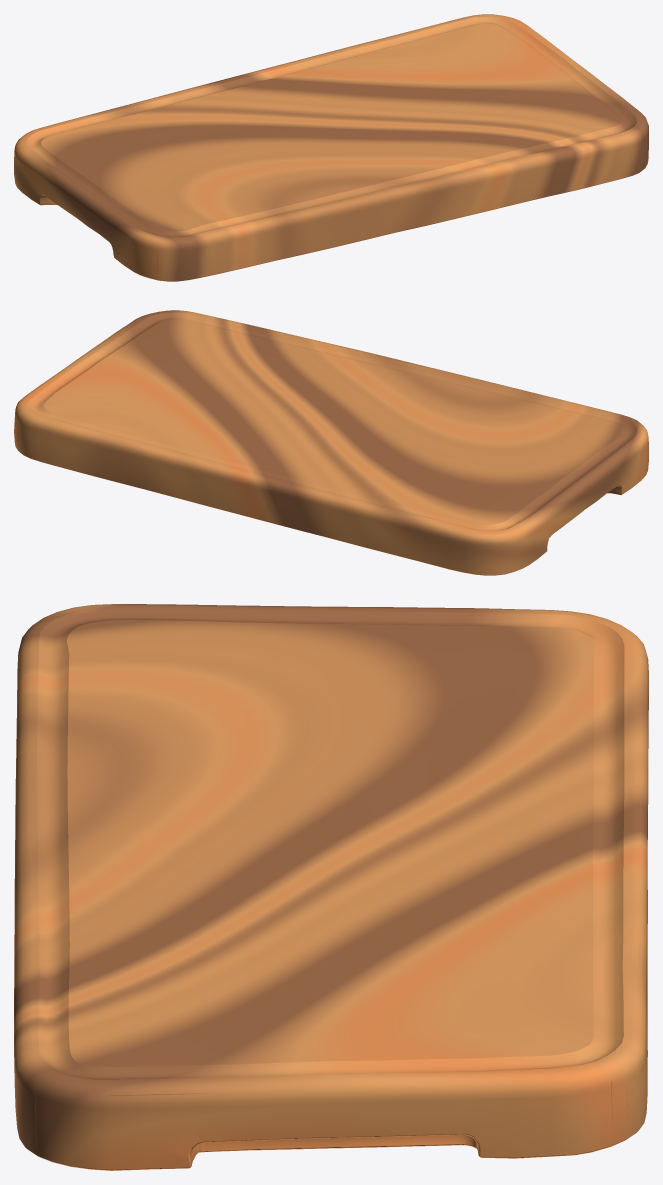
Rendered from wooden_cutting_board_2k.fbx.
The picture shows the model from 3 angles, top to bottom: view 1: azimuth 30°, elevation 25°; view 2: azimuth 150°, elevation 25°; view 3: azimuth 270°, elevation 25°; orthographic projection. The views are drawn at different scales.
Visible parts, largest first — view 1: wooden_cutting_board; view 2: wooden_cutting_board; view 3: wooden_cutting_board.
Part boxes in pixels (left/top/right/bottom): wooden_cutting_board: left=14, top=14, right=648, bottom=281; wooden_cutting_board: left=14, top=310, right=648, bottom=575; wooden_cutting_board: left=14, top=604, right=648, bottom=1170.
Size of the model in its own units: 44.99 by 4.13 by 24.67.
1 material, 1 textured.
